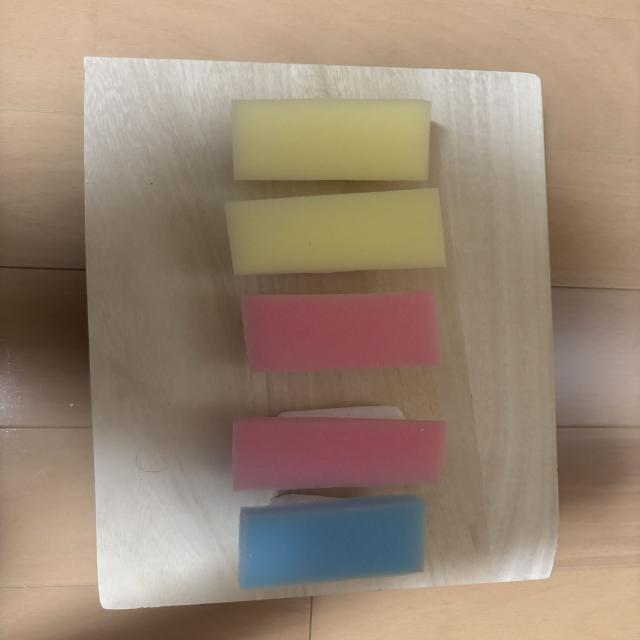ika: (239, 494, 426, 590)
tai: (241, 290, 441, 372), (233, 418, 447, 491)
tamago: (225, 188, 446, 275), (231, 99, 431, 181)
